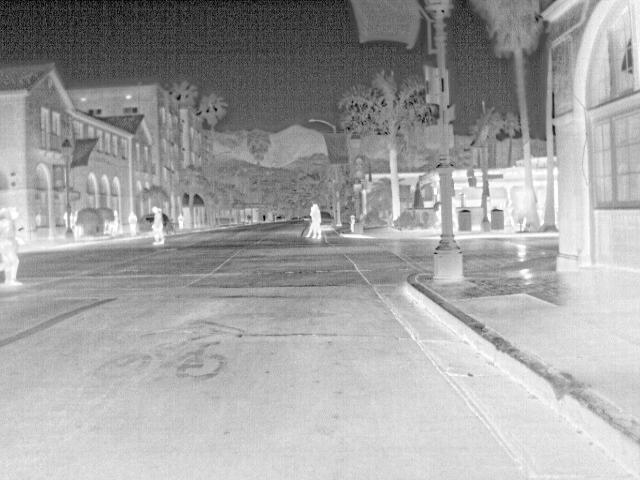car: (319, 209, 336, 232), (138, 214, 152, 234), (164, 213, 176, 234)
person: (0, 206, 22, 289), (309, 203, 324, 241), (152, 207, 166, 247), (125, 210, 139, 238)
